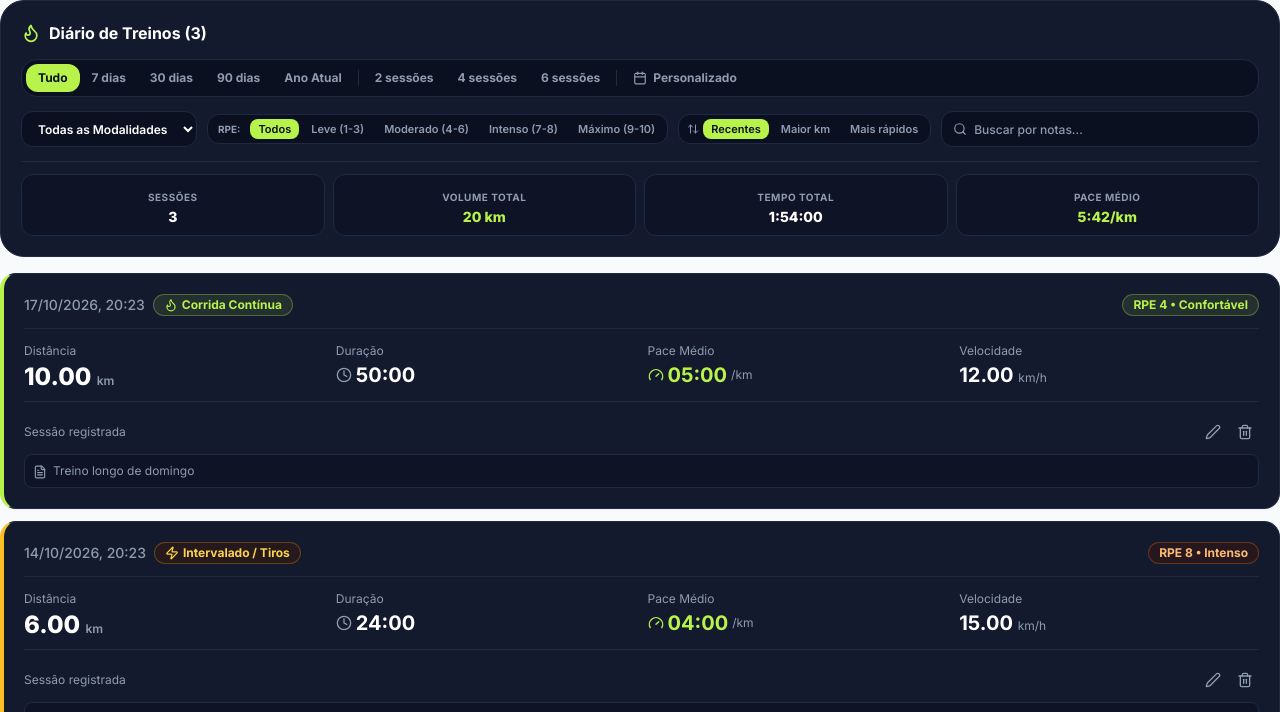
Test: TrainingList Component - Filtros Avançados › permite filtrar por faixa de intensidade RPE
Note: Filtra por 'Intenso (7-8)' (apenas trn-2 tem RPE 8)
Click the button "Intenso (7-8)" at {"x": 524, "y": 129}, box [481,119,566,139]
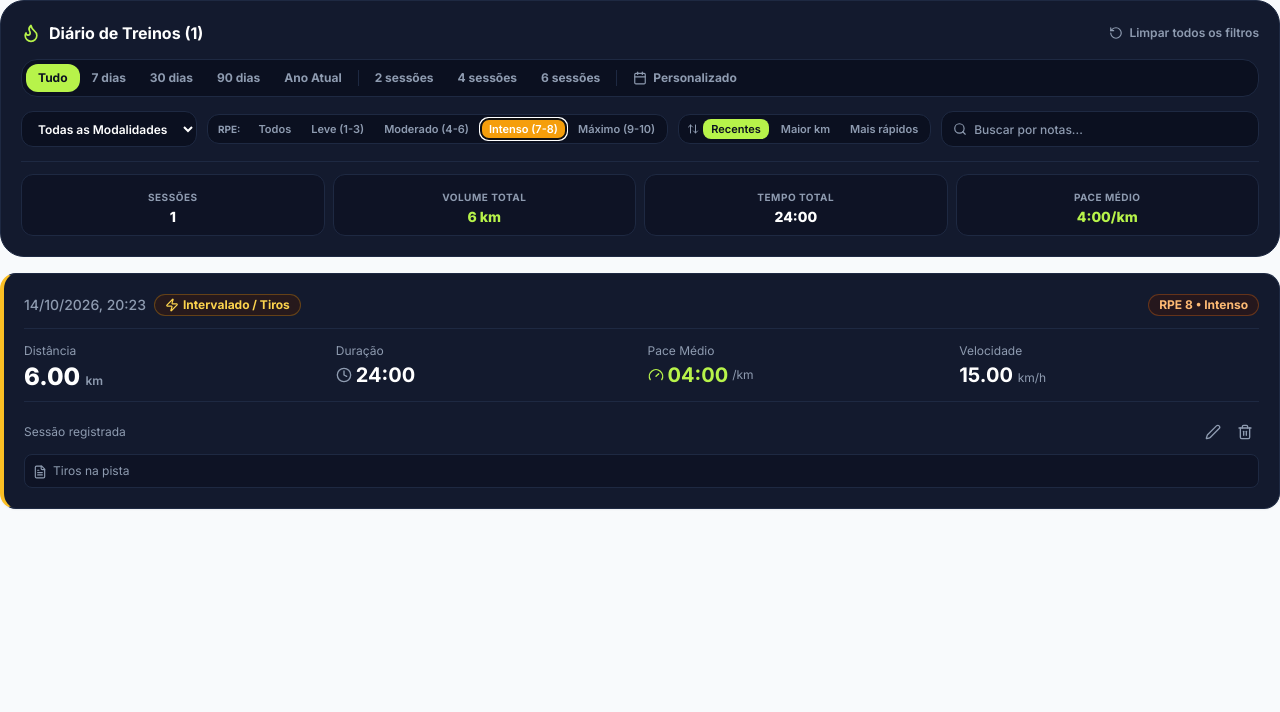
Expected: the text "6.00" is shown, [24,362,80,391]
Now the heading "Diário de Treinos (1)" is shown, box [49,21,203,45]
Now the text "10.00" is gone
